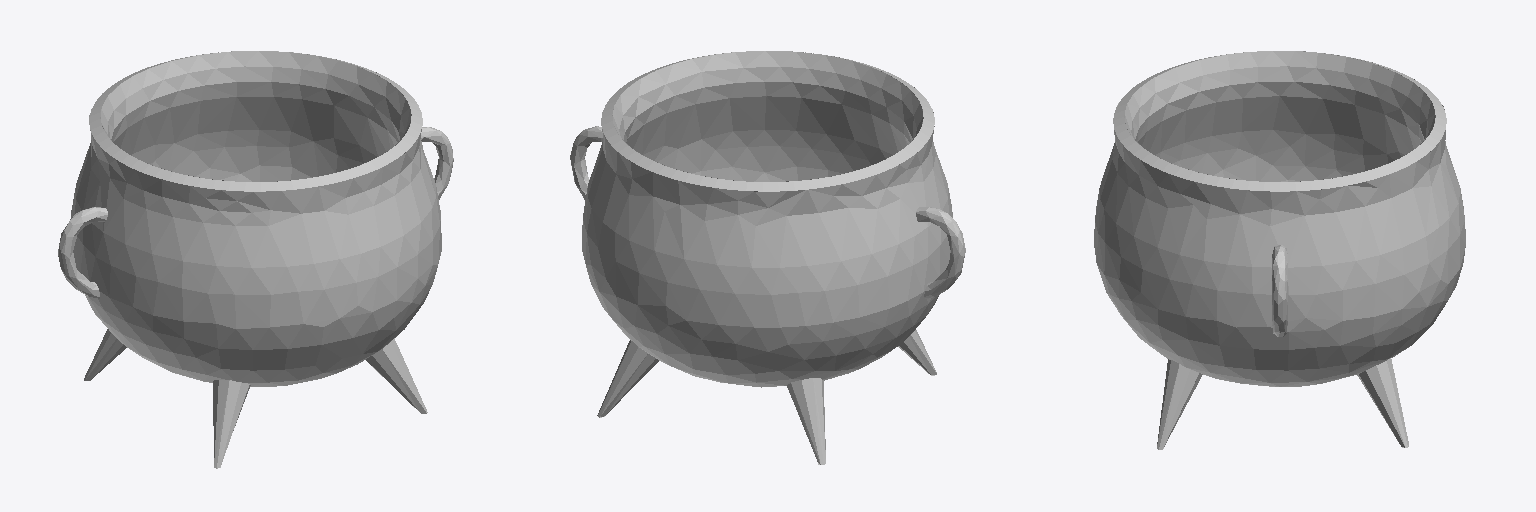
The model's file is cauldron.obj.
The picture shows the model from 3 angles: view 1: azimuth 30°, elevation 25°; view 2: azimuth 150°, elevation 25°; view 3: azimuth 270°, elevation 25°; orthographic projection.
Parts seen in each view (by area): view 1: cauldron; view 2: cauldron; view 3: cauldron.
Part boxes in pixels (left/top/right/bottom): cauldron: left=58, top=51, right=453, bottom=468; cauldron: left=570, top=51, right=965, bottom=464; cauldron: left=1094, top=51, right=1465, bottom=449.
Size of the model in its own units: 1.58 by 1.07 by 1.3.